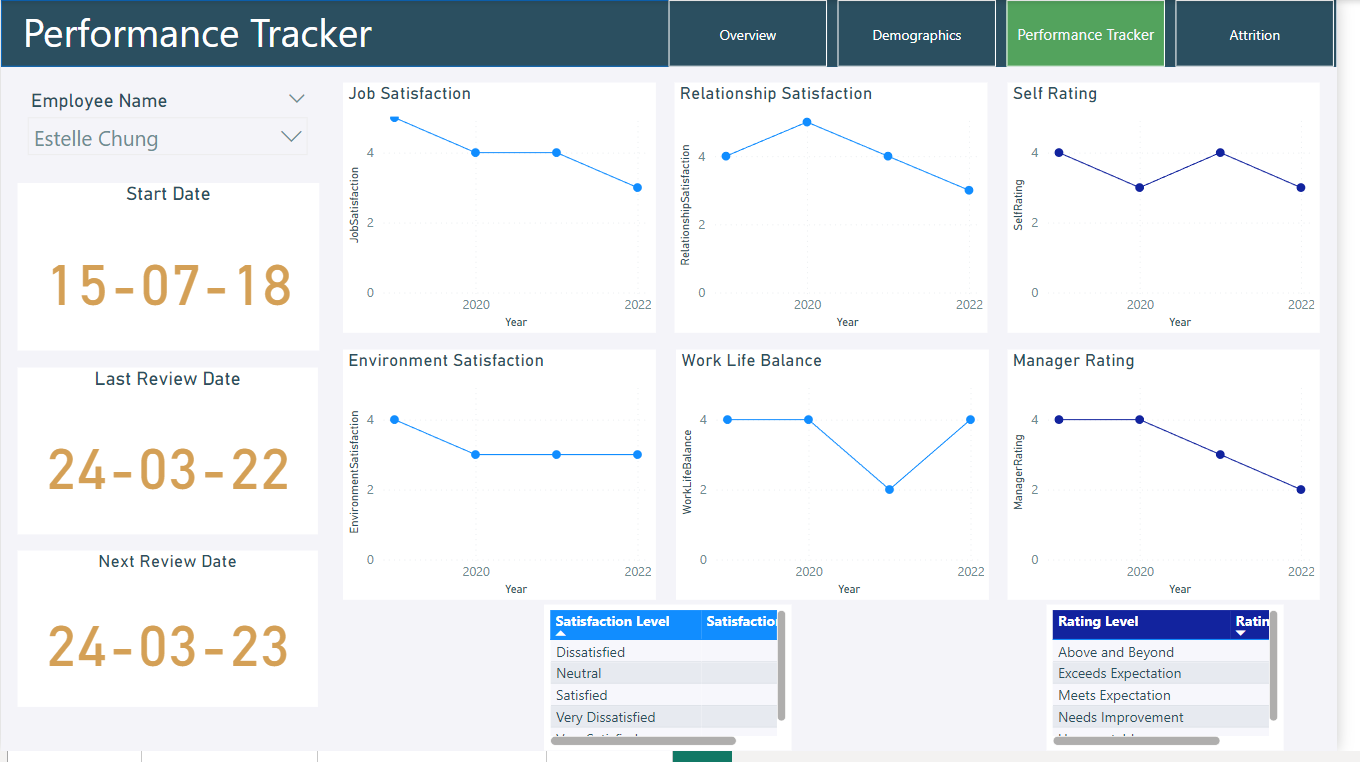

Layout of this report page (visuals, bound fields, positions):
{"tool":"powerbi","page":{"name":"Performance Tracker","canvas":[1280,720],"ordinal":2},"visuals":[{"type":"slicer","fields":{"Values":["DimEmployee.FullName"]},"box":[16,80,288,80],"z":0},{"type":"card","title":"Start Date","fields":{"Values":["DimEmployee.HireDate"]},"box":[16,176,289.1,160.6],"z":1000},{"type":"card","title":"Next Review Date","fields":{"Values":["_Measures.NextReviewDate"]},"box":[16,528,288,150],"z":2000},{"type":"card","title":"Last Review Date","fields":{"Values":["_Measures.LastReviewDate"]},"box":[16,352,288,160],"z":3000},{"type":"lineChart","title":"Job Satisfaction","fields":{"Y":["_Measures.JobSatisfaction"],"Category":["DimDate.Year"]},"box":[328,79,300,240],"z":4000},{"type":"lineChart","title":"Environment Satisfaction","fields":{"Y":["_Measures.EnvironmentSatisfaction"],"Category":["DimDate.Year"]},"box":[328,335,300,240],"z":5000},{"type":"lineChart","title":"Relationship Satisfaction","fields":{"Y":["_Measures.RelationshipSatisfaction"],"Category":["DimDate.Year"]},"box":[646,79,300,240],"z":6000},{"type":"lineChart","title":"Work Life Balance","fields":{"Y":["_Measures.WorkLifeBalance"],"Category":["DimDate.Year"]},"box":[647,335,300,240],"z":7000},{"type":"lineChart","title":"Self Rating","fields":{"Y":["_Measures.SelfRating"],"Category":["DimDate.Year"]},"box":[965,79,299,240],"z":8000},{"type":"lineChart","title":"Manager Rating","fields":{"Y":["_Measures.ManagerRating"],"Category":["DimDate.Year"]},"box":[965,335,299,240],"z":9000},{"type":"tableEx","fields":{"Values":["DimSatisfiedLevel.SatisfactionLevel","DimSatisfiedLevel.SatisfactionID"]},"box":[521,579,237,140],"z":10000},{"type":"tableEx","fields":{"Values":["DimRatingLevel.RatingLevel","DimRatingLevel.RatingID"]},"box":[1002,579,227,140],"z":11000},{"type":"shape","box":[0,0,1280,64],"z":12000},{"type":"textbox","box":[16,0,448,64],"z":13000},{"type":"pageNavigator","box":[640,0,640,64],"z":14000}]}

Visuals, with their boxes in screenshot pixels (x1, y1, x2, y2), scaled from the page's 1280x720 canvas onto the 1360x762 screenshot:
slicer - DimEmployee.FullName: box=[17, 85, 323, 169]
"Start Date" card: box=[17, 186, 324, 356]
"Next Review Date" card: box=[17, 559, 323, 718]
"Last Review Date" card: box=[17, 373, 323, 542]
"Job Satisfaction" lineChart: box=[348, 84, 667, 338]
"Environment Satisfaction" lineChart: box=[348, 355, 667, 609]
"Relationship Satisfaction" lineChart: box=[686, 84, 1005, 338]
"Work Life Balance" lineChart: box=[687, 355, 1006, 609]
"Self Rating" lineChart: box=[1025, 84, 1343, 338]
"Manager Rating" lineChart: box=[1025, 355, 1343, 609]
tableEx - DimSatisfiedLevel.SatisfactionLevel x DimSatisfiedLevel.SatisfactionID: box=[554, 613, 805, 761]
tableEx - DimRatingLevel.RatingLevel x DimRatingLevel.RatingID: box=[1065, 613, 1306, 761]
shape: box=[0, 0, 1359, 68]
textbox: box=[17, 0, 493, 68]
pageNavigator: box=[680, 0, 1359, 68]
